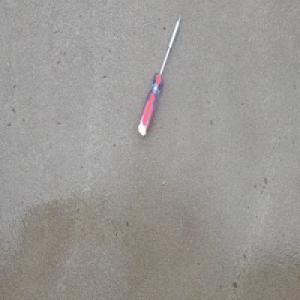Screwdriver: (137, 13, 182, 138)
